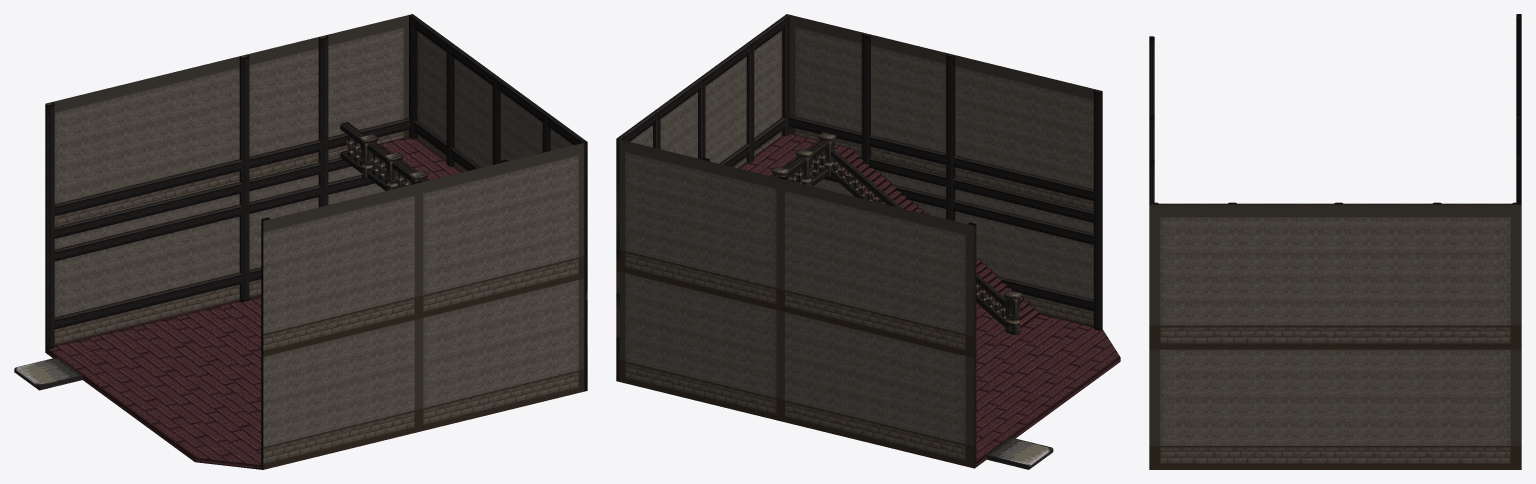
Rendered from EnvBdgMD_City_B_Indoor_Pub_A.FBX.
The picture shows the model from 3 angles, left to right: view 1: azimuth 30°, elevation 25°; view 2: azimuth 150°, elevation 25°; view 3: azimuth 270°, elevation 25°; orthographic projection. The views are drawn at different scales.
Parts seen in each view (by area): view 1: EnvBdgMD_City_B_Indoor_Pub_A; view 2: EnvBdgMD_City_B_Indoor_Pub_A; view 3: EnvBdgMD_City_B_Indoor_Pub_A.
Part boxes in pixels (x1,y1,x2,y2): EnvBdgMD_City_B_Indoor_Pub_A: (14, 14, 587, 469); EnvBdgMD_City_B_Indoor_Pub_A: (616, 14, 1120, 469); EnvBdgMD_City_B_Indoor_Pub_A: (1149, 14, 1521, 469).
Size of the model in its own units: 1900 by 1100 by 1400.
